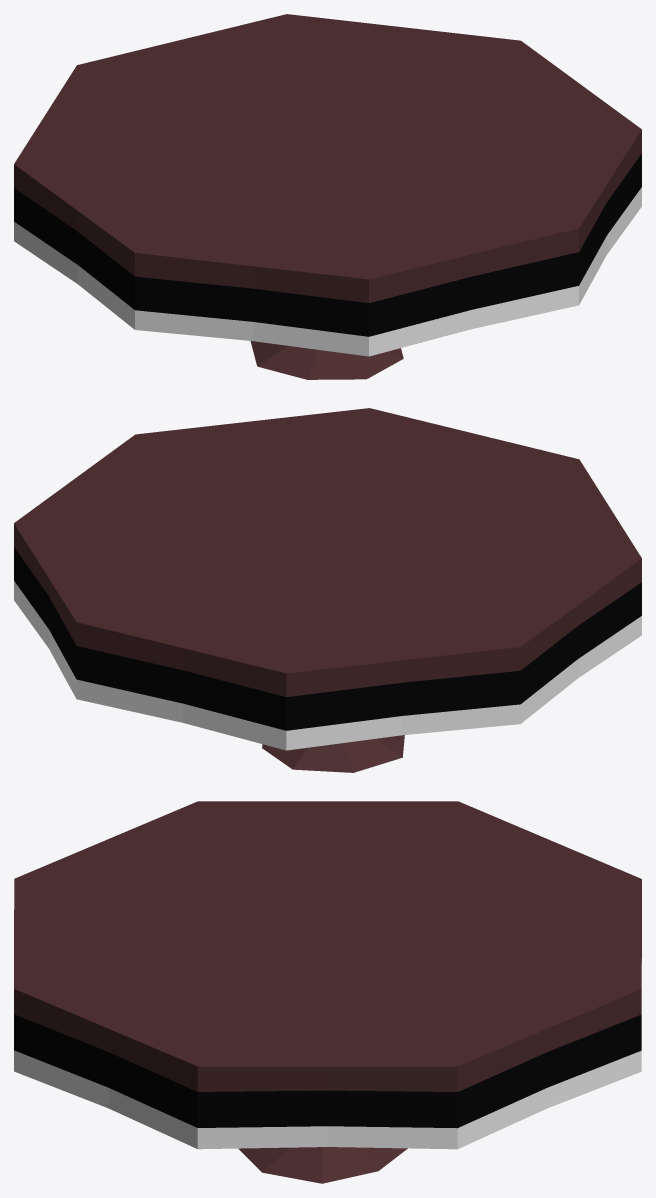
Rendered from Brown round table.fbx.
3 views of the same model, one above another, from view 1: azimuth 30°, elevation 25°; view 2: azimuth 150°, elevation 25°; view 3: azimuth 270°, elevation 25° (orthographic). The views are drawn at different scales.
Visible parts, largest first — view 1: Brown round table; view 2: Brown round table; view 3: Brown round table.
Boxes of the visible parts, bbox=[...] form: Brown round table: bbox=[14, 14, 641, 379]; Brown round table: bbox=[14, 408, 641, 772]; Brown round table: bbox=[14, 801, 641, 1183].
Bounding box in the file's own units: 412 × 156 × 412.
